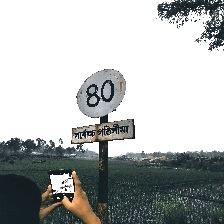Speed-limit: (74, 67, 131, 143)
